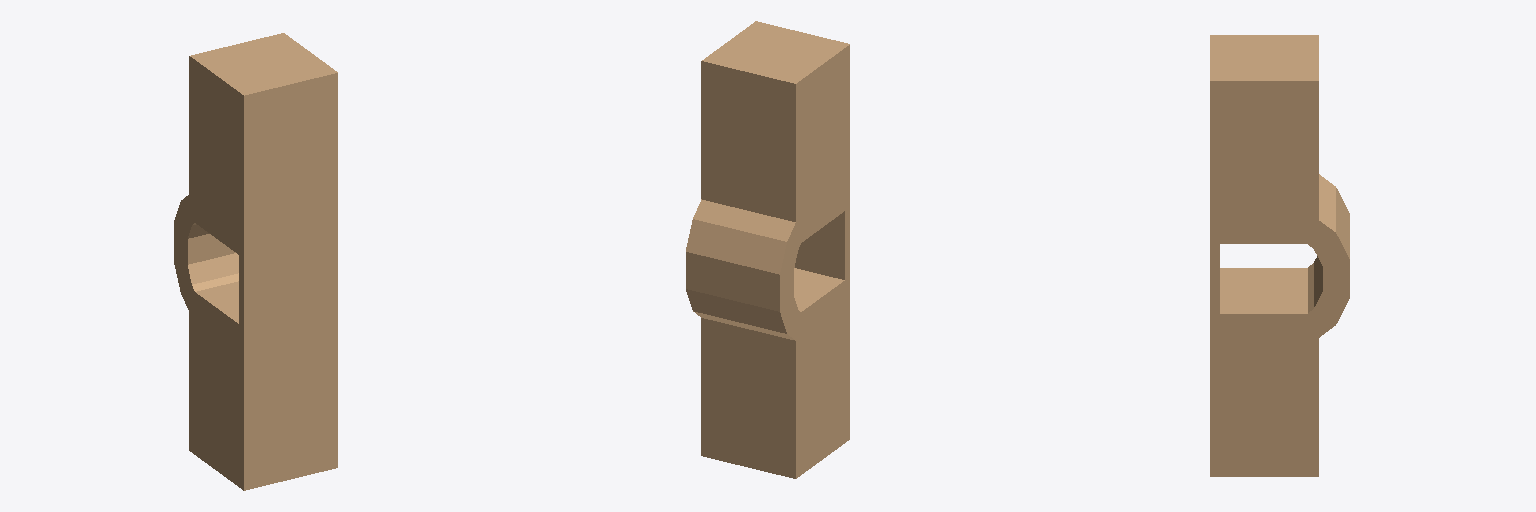
Rendered from Puzzle_Wall_Pillar_Conduit_Passthrough.obj.
3 views of the same model, side by side, from view 1: azimuth 30°, elevation 25°; view 2: azimuth 150°, elevation 25°; view 3: azimuth 270°, elevation 25° (orthographic).
Parts seen in each view (by area): view 1: object1; view 2: object1; view 3: object1.
Part boxes in pixels (bbox=[...]): object1: bbox=[174, 33, 337, 490]; object1: bbox=[686, 21, 849, 478]; object1: bbox=[1210, 35, 1349, 476].
Bounding box in the file's own units: 0.25 × 1 × 0.323.